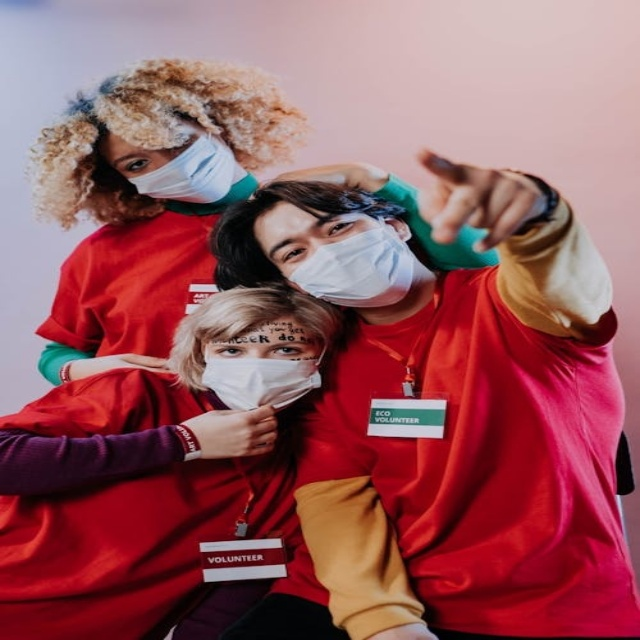Mascara: (283, 216, 430, 306), (122, 129, 247, 204), (198, 353, 324, 414)
Sin_gafas: (278, 213, 361, 260), (210, 338, 311, 362), (105, 146, 154, 174)
Sin_guantes: (413, 146, 556, 252), (176, 405, 282, 461)
